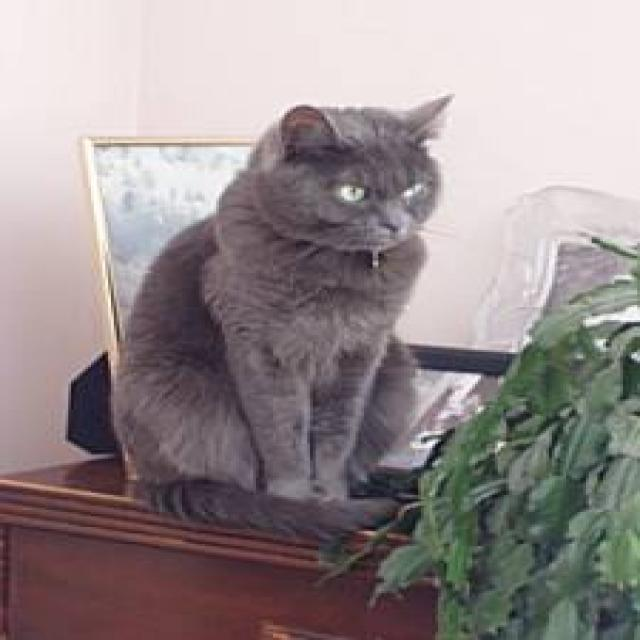Russian_Blue: (242, 87, 453, 256)
